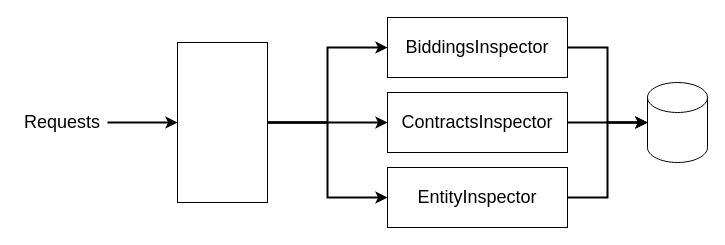
Some shapes in this 725 by 245 pixel diagram are drawn without their labels. Each missing label, with the centre of its shape:
API: pixel 222 122
DBs: pixel 677 122
